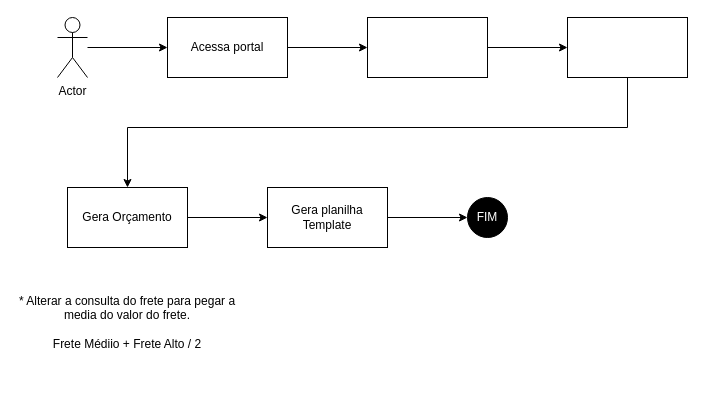
Some shapes in this 705 by 405 pixel diagram are drawn without their labels. Each missing label, with the centre of its shape:
"Insere os CEP das entregas" belongs at point (627, 47).
"Seleciona KIT" belongs at point (427, 47).
